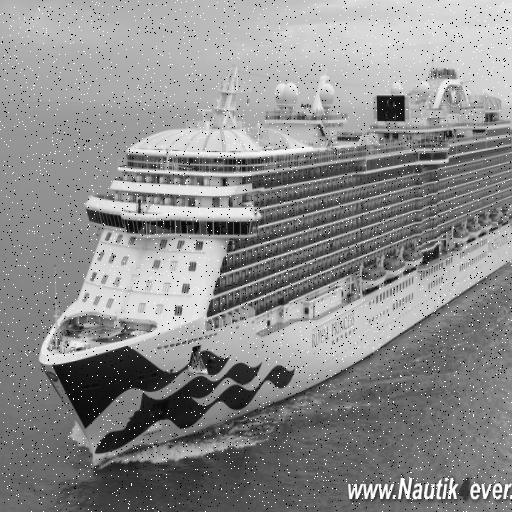cruises: (37, 35, 512, 462)
